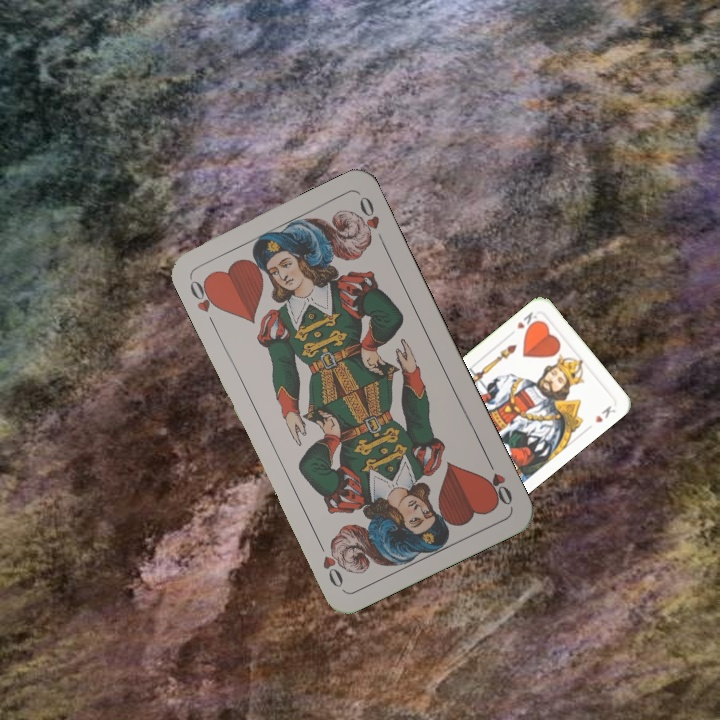HK: (513, 308, 541, 335)
HO: (481, 453, 515, 508), (185, 274, 223, 315)
